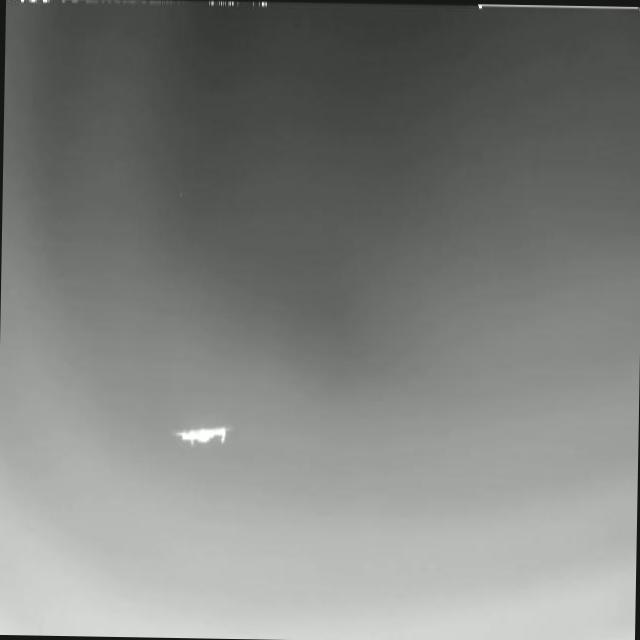DRONE: (170, 416, 236, 457)
